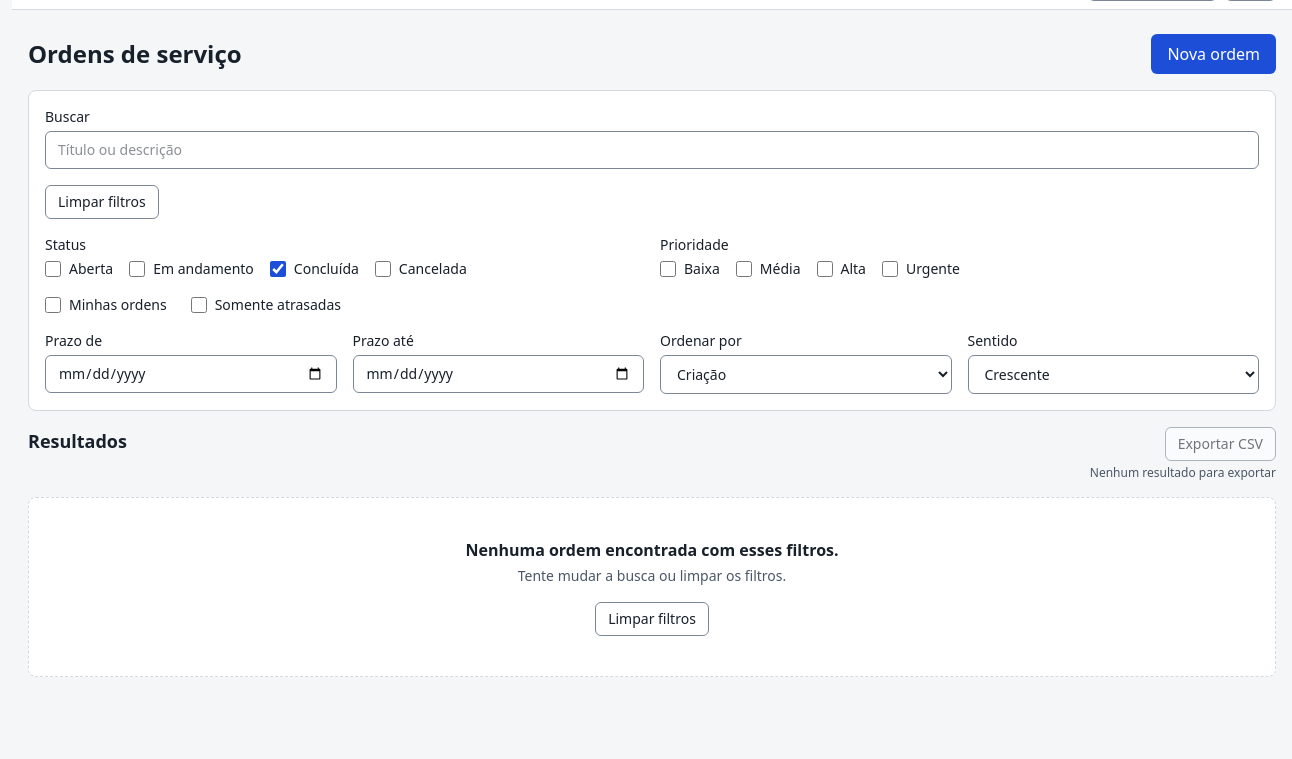
Test: Lista de ordens (/orders) › vazio por causa dos filtros, com "Limpar filtros" que mantém a ordenação
expect the text "Nenhuma ordem encontrada com esses filtros." is shown: met, box [465,539,838,561]
Click the 2nd button "Limpar filtros": (652, 619) [595,602,709,636]
(page scrolled)
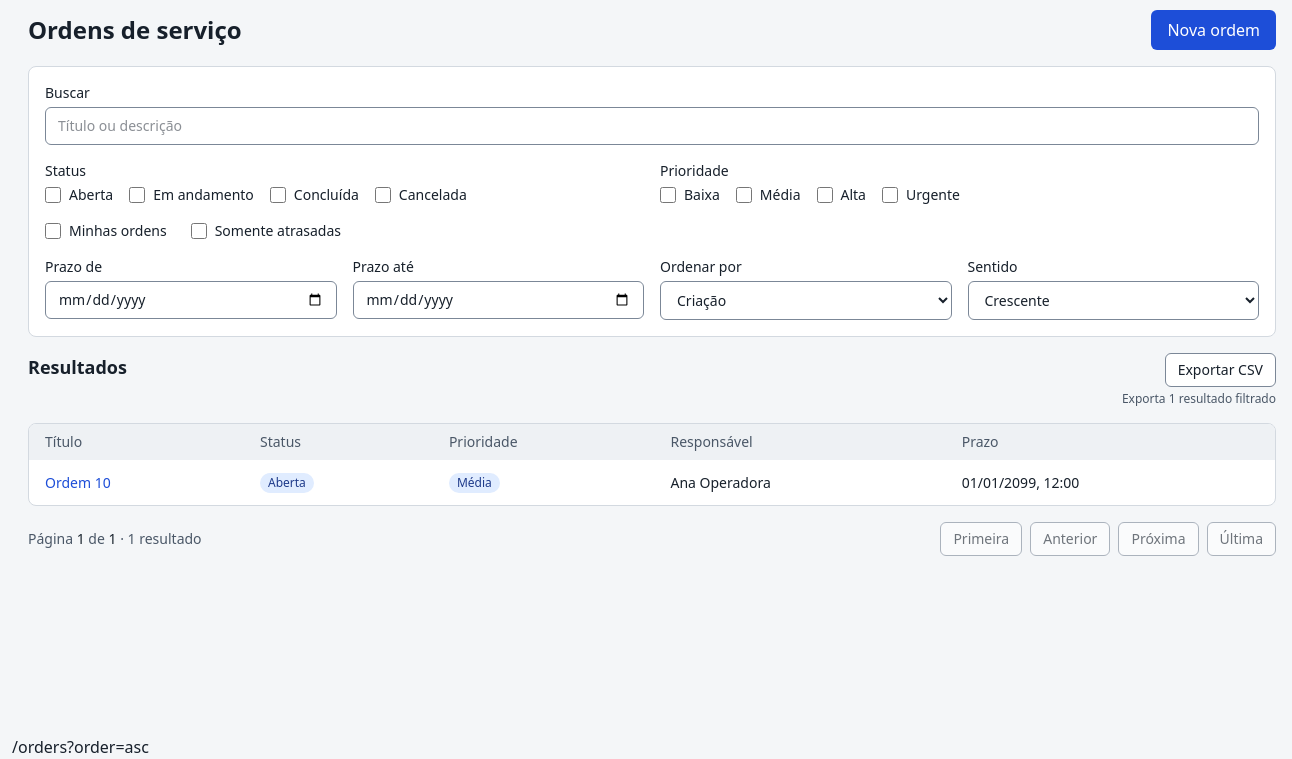
expect the text named "url" reads "/orders?order=asc": met, box [12,736,149,758]
